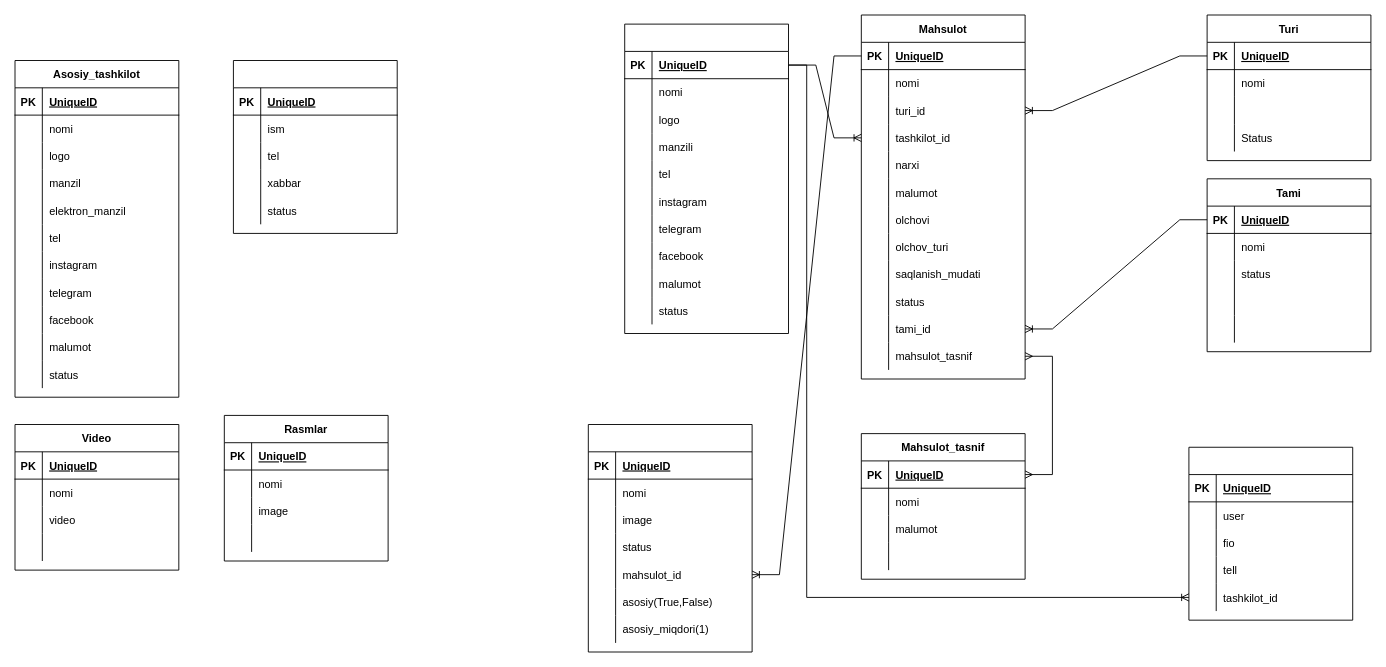
This 1386x667 diagram has some shape labels left out. The shapes that lost their labels are listed below. From the top down, each one's box as (x1, y1, x2, y2) in pixels, then its label:
(233, 60, 397, 233): Boglanish
(624, 23, 789, 334): Tashkilot
(587, 424, 752, 652): Rasm
(1188, 446, 1353, 620): Account
